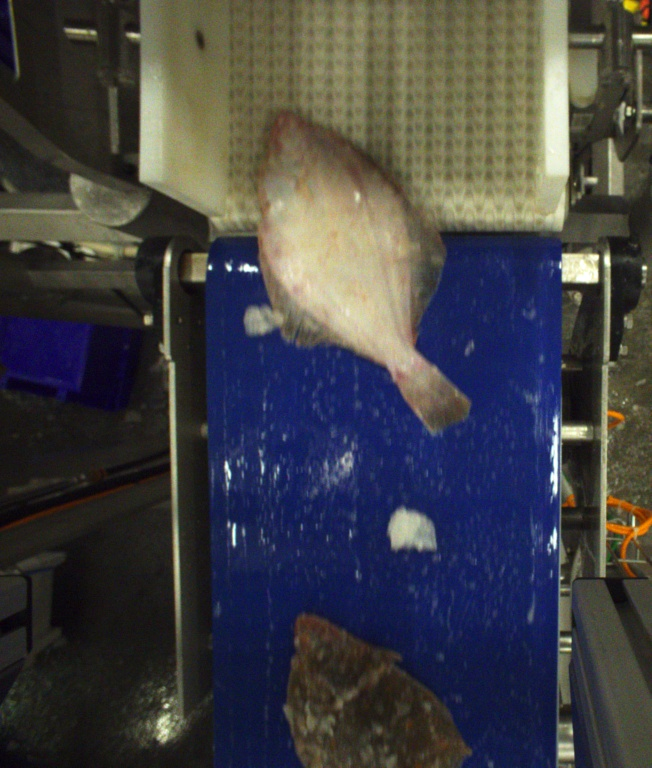PLE: (253, 111, 471, 436)
